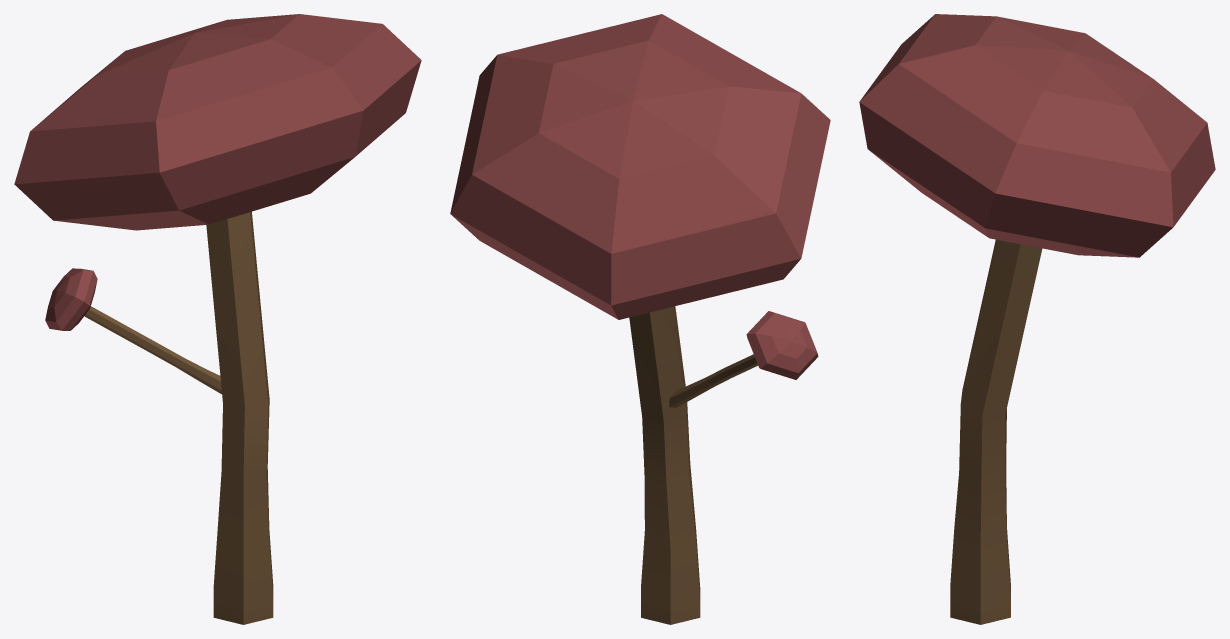
File: Tree red.fbx
The picture shows the model from 3 angles, left to right: view 1: azimuth 30°, elevation 25°; view 2: azimuth 150°, elevation 25°; view 3: azimuth 270°, elevation 25°; orthographic projection. The views are drawn at different scales.
Visible parts, largest first — view 1: pSphere1, polySurface17, pSphere2, polySurface18; view 2: pSphere1, polySurface17, pSphere2, polySurface18; view 3: pSphere1, polySurface17.
Part boxes in pixels (x1,y1,x2,y2): pSphere1: (14, 14, 421, 230); polySurface17: (206, 211, 273, 624); pSphere2: (45, 268, 97, 330); polySurface18: (59, 293, 221, 394); pSphere1: (450, 14, 830, 319); polySurface17: (629, 306, 700, 624); pSphere2: (746, 311, 818, 379); polySurface18: (669, 337, 797, 407); pSphere1: (859, 14, 1215, 257); polySurface17: (950, 239, 1042, 624).
Size of the model in its own units: 283 by 419 by 234.
